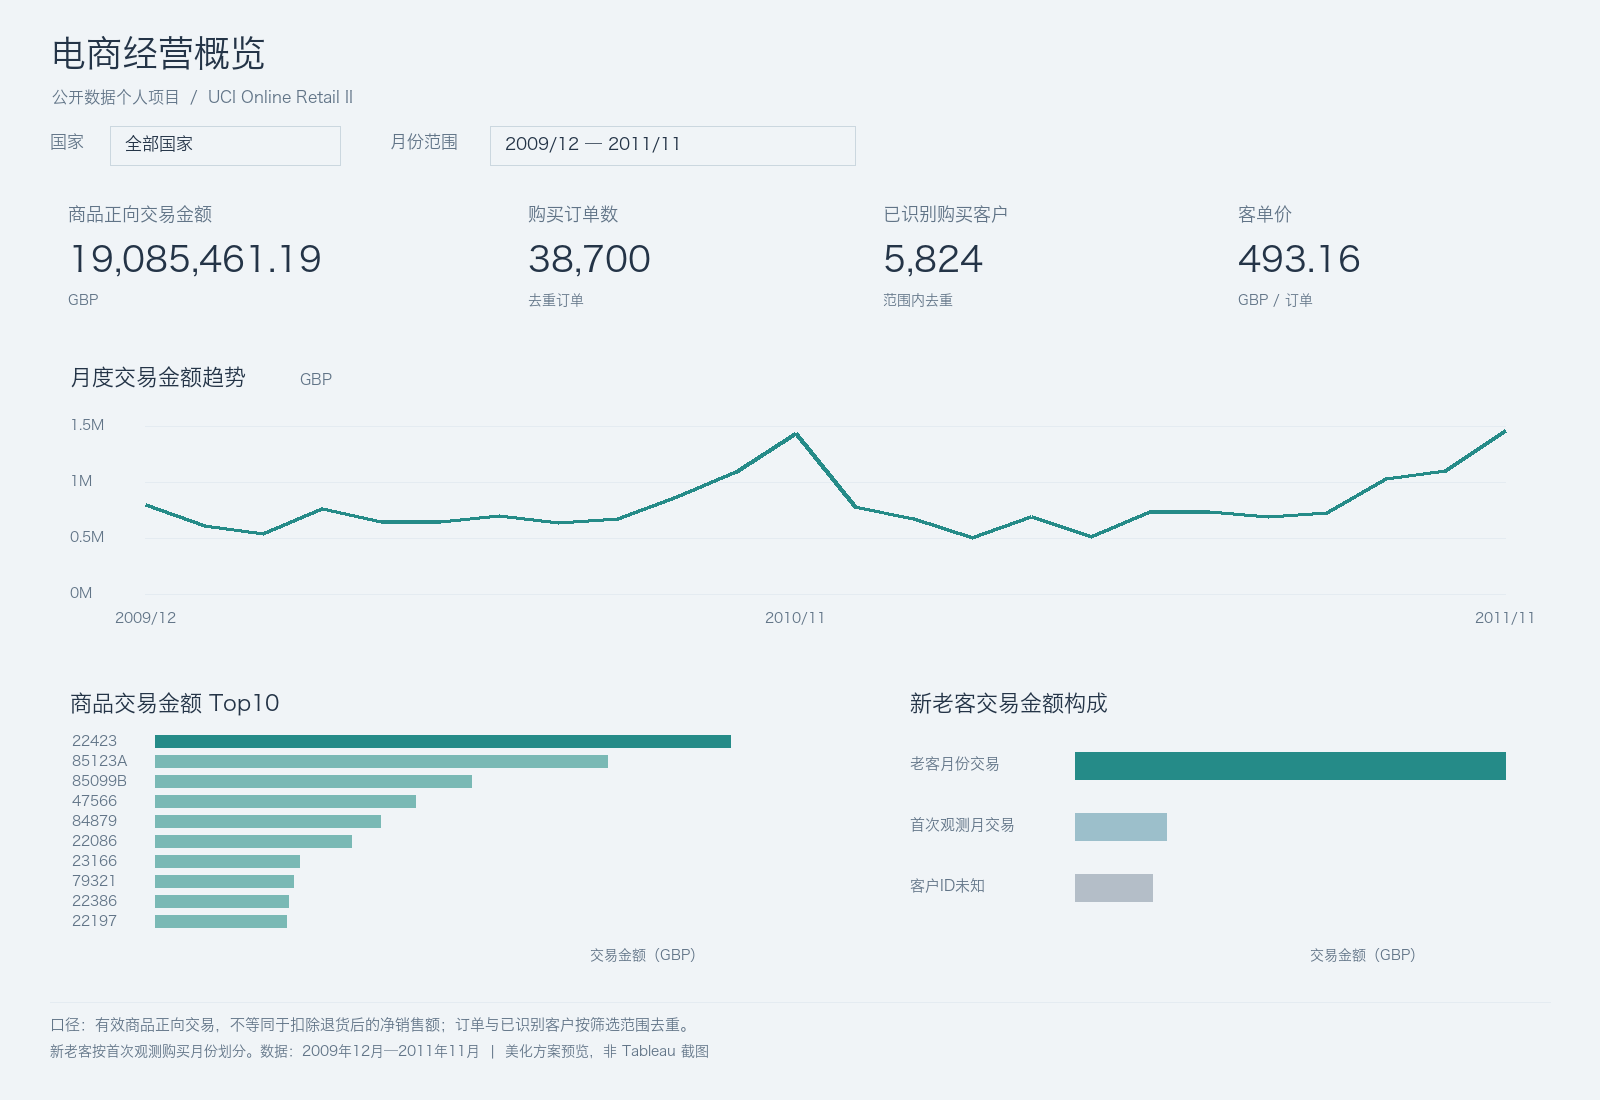

The page's visual inventory and layout, read from the dashboard file:
{"tool":"tableau","page":{"name":"电商经营概览","canvas":[1200,800],"ordinal":0},"visuals":[{"type":"title","box":[8,8,1184,70]},{"type":"filter","title":"经营概览－商品排名","param":"[federated.157g0j00ozi3fg13ckk121qpsyf8].[none:Country:nk]","box":[8,78,430,63]},{"type":"filter","title":"经营概览－月度趋势","param":"[federated.157g0j00ozi3fg13ckk121qpsyf8].[none:Month:qk]","box":[438,78,754,63]},{"type":"worksheet","title":"经营概览－金额","mark":"Text","box":[8,141,296,82]},{"type":"worksheet","title":"经营概览－订单数","mark":"Automatic","box":[304,141,296,82]},{"type":"worksheet","title":"经营概览－客户数","mark":"Automatic","box":[600,141,296,82]},{"type":"worksheet","title":"经营概览－客单价","mark":"Automatic","box":[896,141,296,82]},{"type":"worksheet","title":"经营概览－月度趋势","mark":"Bar","rows":["LineAmount"],"cols":["Month"],"box":[8,222.7,1184,222.3]},{"type":"worksheet","title":"经营概览－商品排名","mark":"Automatic","rows":["StockCode","Calculation_2552719231754242"],"cols":["LineAmount"],"box":[8,445,608,306]},{"type":"worksheet","title":"经营概览－新老客构成","mark":"Bar","rows":["CustomerType"],"cols":["LineAmount"],"box":[616,445,576,306]},{"type":"text","box":[8,751,1184,41]}]}

Visuals, with their boxes on the page's 1200x800 design canvas (x1, y1, x2, y2). These are canvas units, not pixel positions in the 1600x1100 screenshot, which may show the page scaled, cropped or inside an application window:
title: left=8, top=8, right=1192, bottom=78
"经营概览－商品排名" filter: left=8, top=78, right=438, bottom=141
"经营概览－月度趋势" filter: left=438, top=78, right=1192, bottom=141
"经营概览－金额" worksheet (Text marks): left=8, top=141, right=304, bottom=223
"经营概览－订单数" worksheet: left=304, top=141, right=600, bottom=223
"经营概览－客户数" worksheet: left=600, top=141, right=896, bottom=223
"经营概览－客单价" worksheet: left=896, top=141, right=1192, bottom=223
"经营概览－月度趋势" worksheet (Bar marks): left=8, top=223, right=1192, bottom=445
"经营概览－商品排名" worksheet: left=8, top=445, right=616, bottom=751
"经营概览－新老客构成" worksheet (Bar marks): left=616, top=445, right=1192, bottom=751
text: left=8, top=751, right=1192, bottom=792
